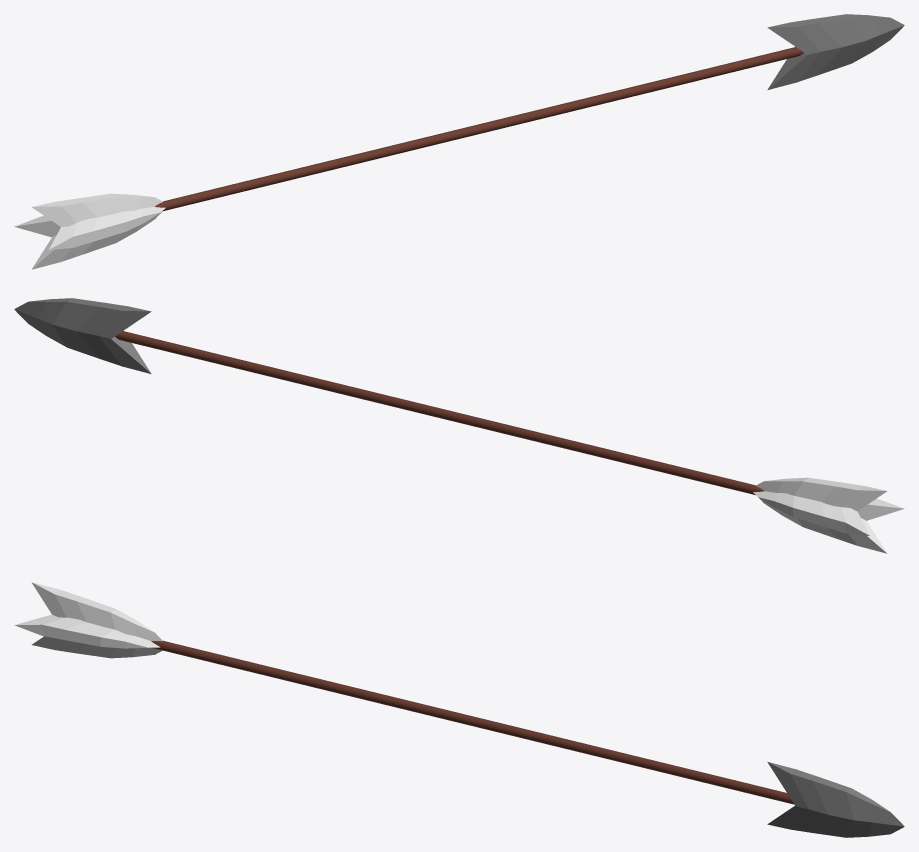
Rendered from arrow 1.fbx.
3 renders of one model, top to bottom at view 1: azimuth 30°, elevation 25°; view 2: azimuth 150°, elevation 25°; view 3: azimuth 330°, elevation 25°, orthographic.
Visible parts, largest first — view 1: 立方體.003; view 2: 立方體.003; view 3: 立方體.003.
Boxes of the visible parts, x1,y1,x2,y2 form: 立方體.003: (14,14,904,269); 立方體.003: (14,298,904,553); 立方體.003: (14,582,904,837).
Size of the model in its own units: 517 by 35.5 by 35.49.
